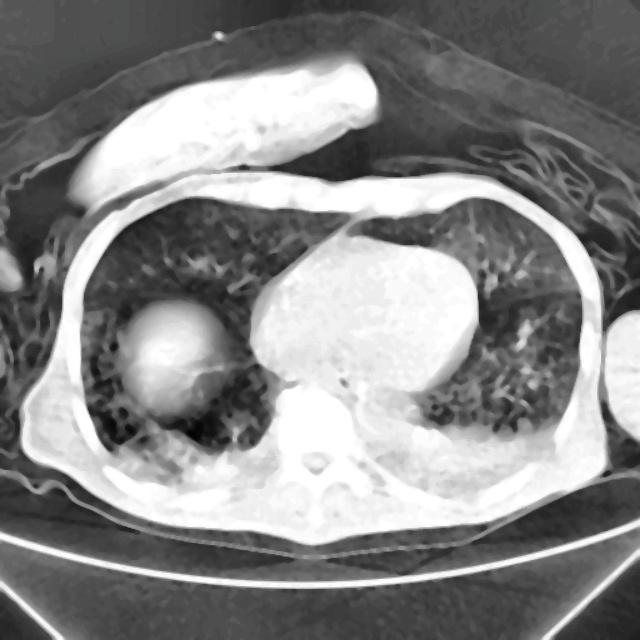covid: (18, 53, 613, 553)
